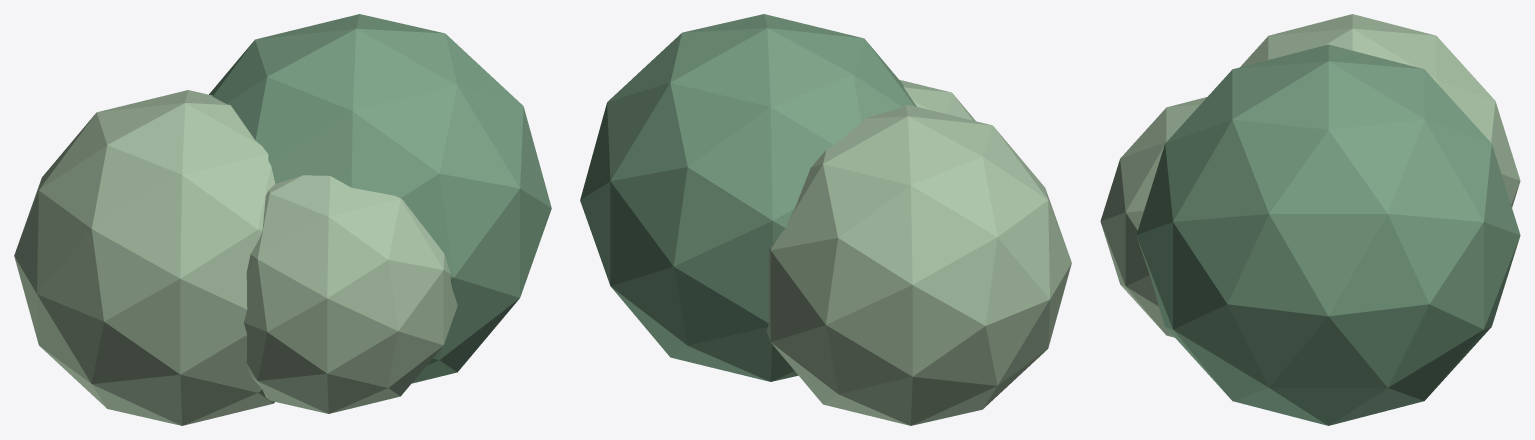
Rendered from shrub.glb.
The picture shows the model from 3 angles, left to right: view 1: azimuth 30°, elevation 25°; view 2: azimuth 150°, elevation 25°; view 3: azimuth 270°, elevation 25°; orthographic projection. The views are drawn at different scales.
Visible parts, largest first — view 1: part_00, part_01, part_02; view 2: part_00, part_01, part_02; view 3: part_01, part_00, part_02.
Boxes of the visible parts, <box> form: part_00: <box>14,90,275,425</box>; part_01: <box>209,14,551,383</box>; part_02: <box>244,175,457,413</box>; part_00: <box>766,105,1071,425</box>; part_01: <box>580,14,916,381</box>; part_02: <box>900,80,975,120</box>; part_01: <box>1136,44,1520,425</box>; part_00: <box>1240,14,1520,207</box>; part_02: <box>1100,97,1206,337</box>.
Size of the model in its own units: 2.25 by 1.6 by 1.75.
